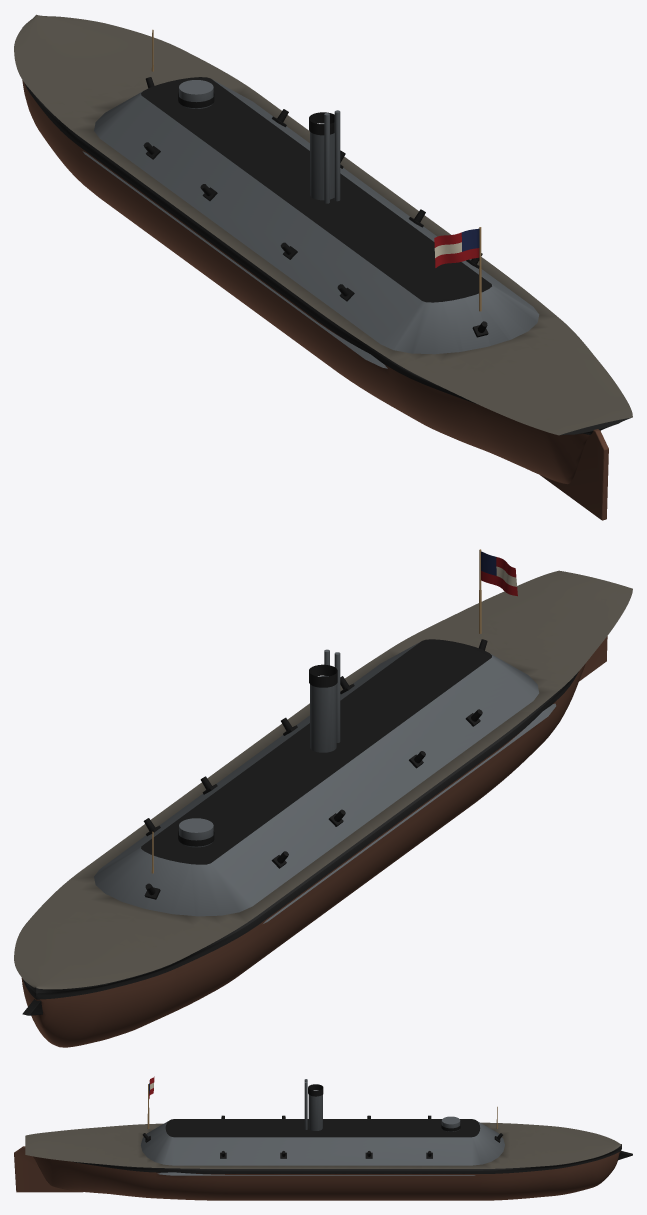
Rendered from css-virginia.glb.
The picture shows the model from 3 angles, top to bottom: view 1: azimuth 30°, elevation 25°; view 2: azimuth 150°, elevation 25°; view 3: azimuth 270°, elevation 25°; orthographic projection. The views are drawn at different scales.
Visible parts, largest first — view 1: css-virginia; view 2: css-virginia; view 3: css-virginia.
Boxes of the visible parts, bbox=[...] form: css-virginia: bbox=[14, 14, 632, 520]; css-virginia: bbox=[14, 549, 632, 1047]; css-virginia: bbox=[14, 1076, 632, 1200].
Size of the model in its own units: 15.8 by 17.2 by 86.96.
